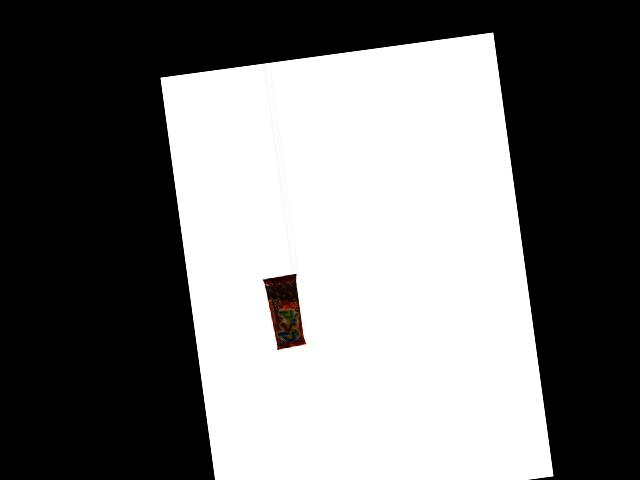chocolate: (264, 273, 306, 350)
